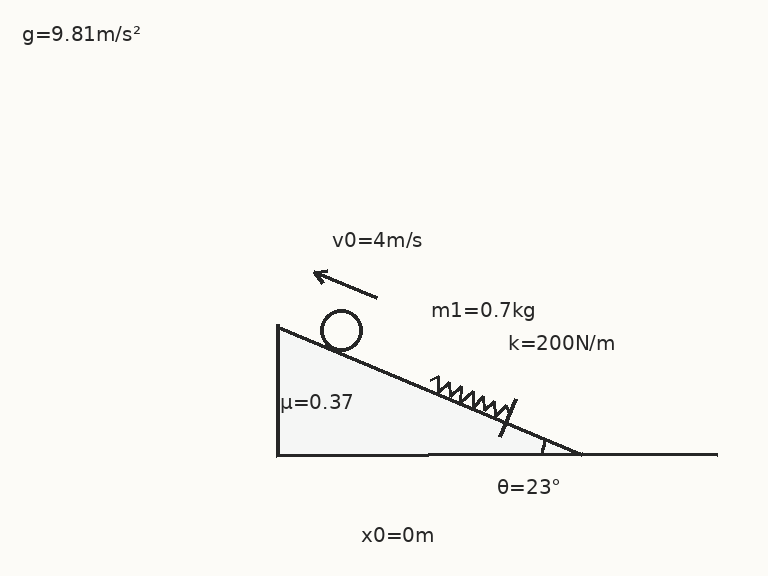ball: (318, 307, 364, 353)
ramp: (274, 323, 584, 457)
spring: (428, 375, 511, 418)
